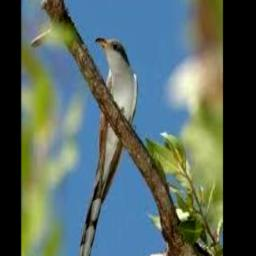Cuckoo: (79, 35, 138, 256)
